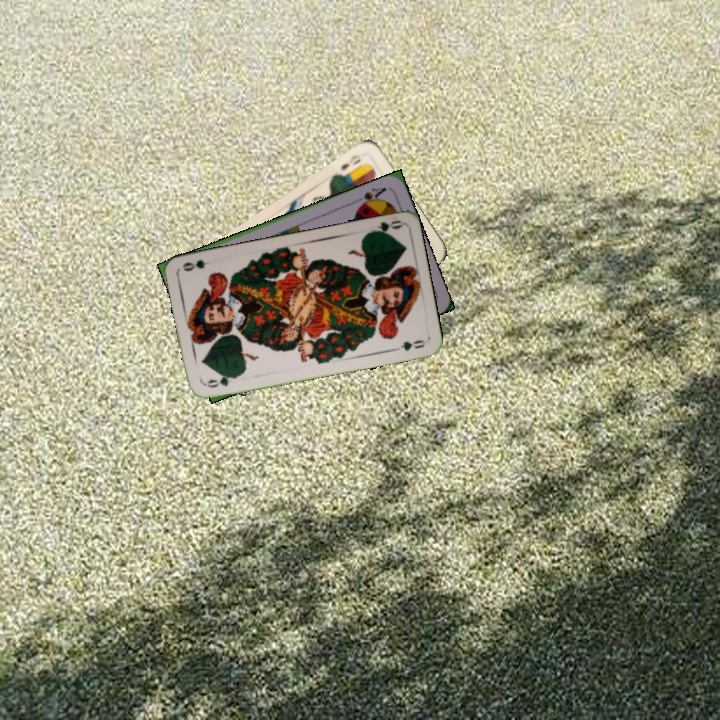EO: (337, 150, 364, 173)
GO: (364, 216, 404, 238), (201, 371, 241, 390)
SA: (351, 183, 389, 211)
